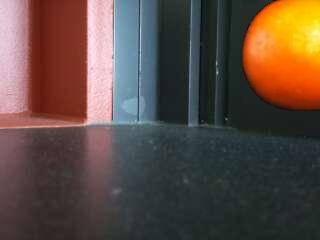Orange: (242, 0, 320, 113)
